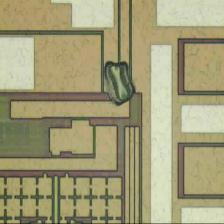PARTICLE: (102, 60, 137, 108)
